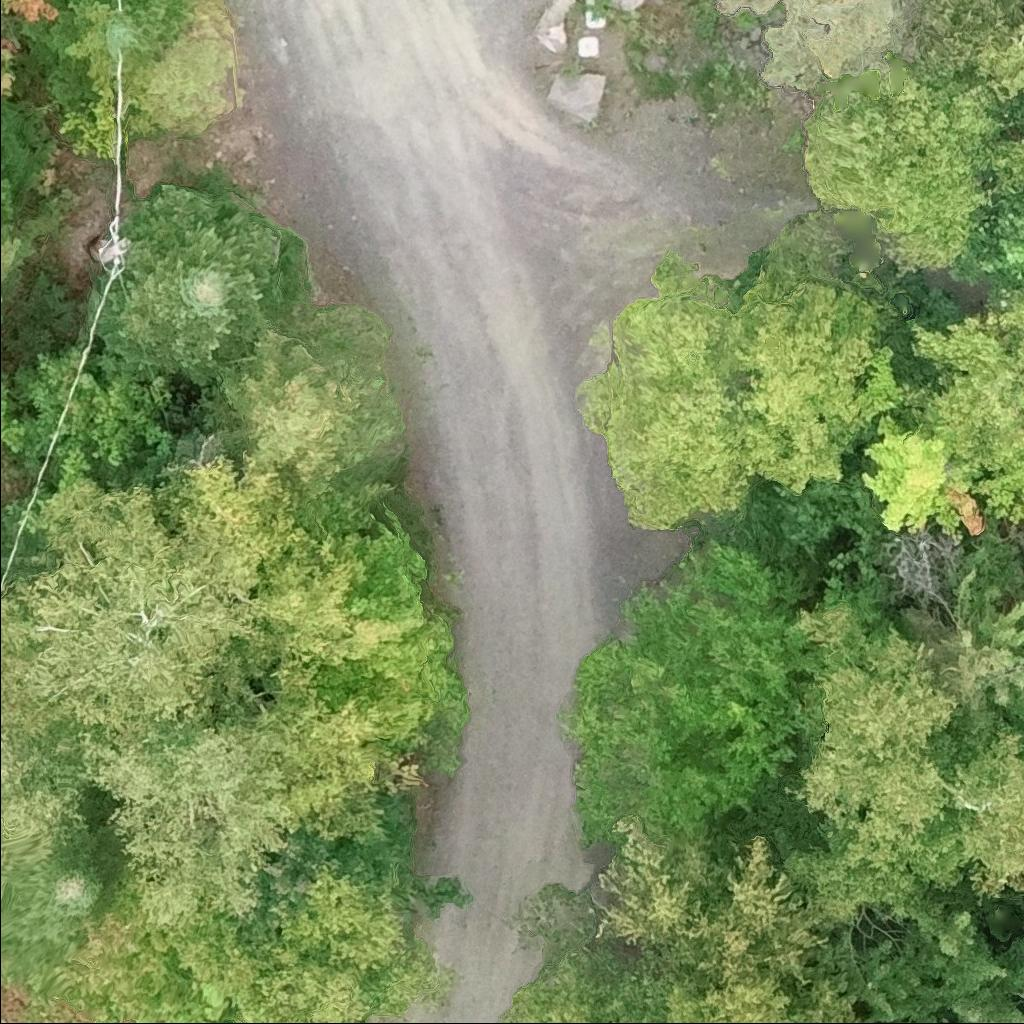crown: (0, 461, 371, 742), (782, 605, 1023, 929), (501, 812, 859, 1023), (77, 701, 380, 935), (575, 281, 754, 529), (801, 75, 995, 266), (303, 528, 465, 756), (98, 189, 289, 382), (727, 274, 879, 494), (227, 326, 402, 499), (235, 867, 412, 1023), (902, 310, 1023, 525), (24, 0, 205, 112), (924, 0, 1023, 100), (980, 140, 1023, 191), (0, 0, 60, 26), (0, 167, 17, 244), (0, 239, 24, 283), (0, 47, 19, 98), (0, 297, 2, 309)
